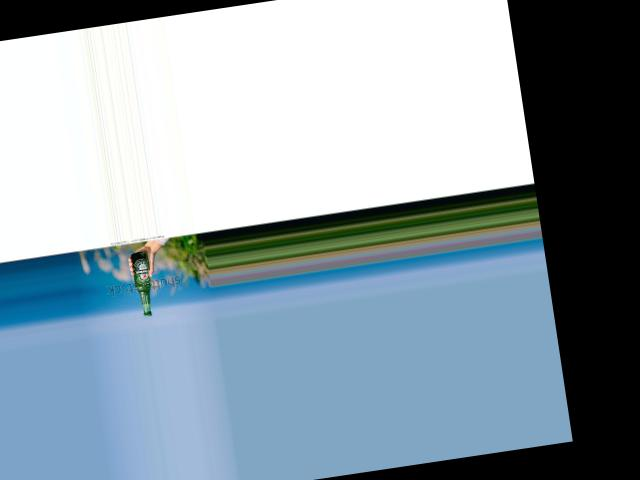beer: (130, 250, 155, 317)
